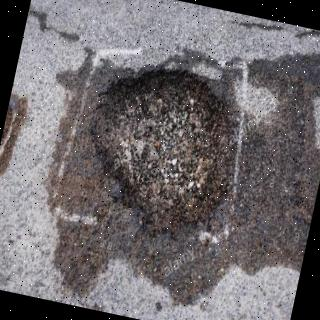pothole: (88, 71, 232, 232)
